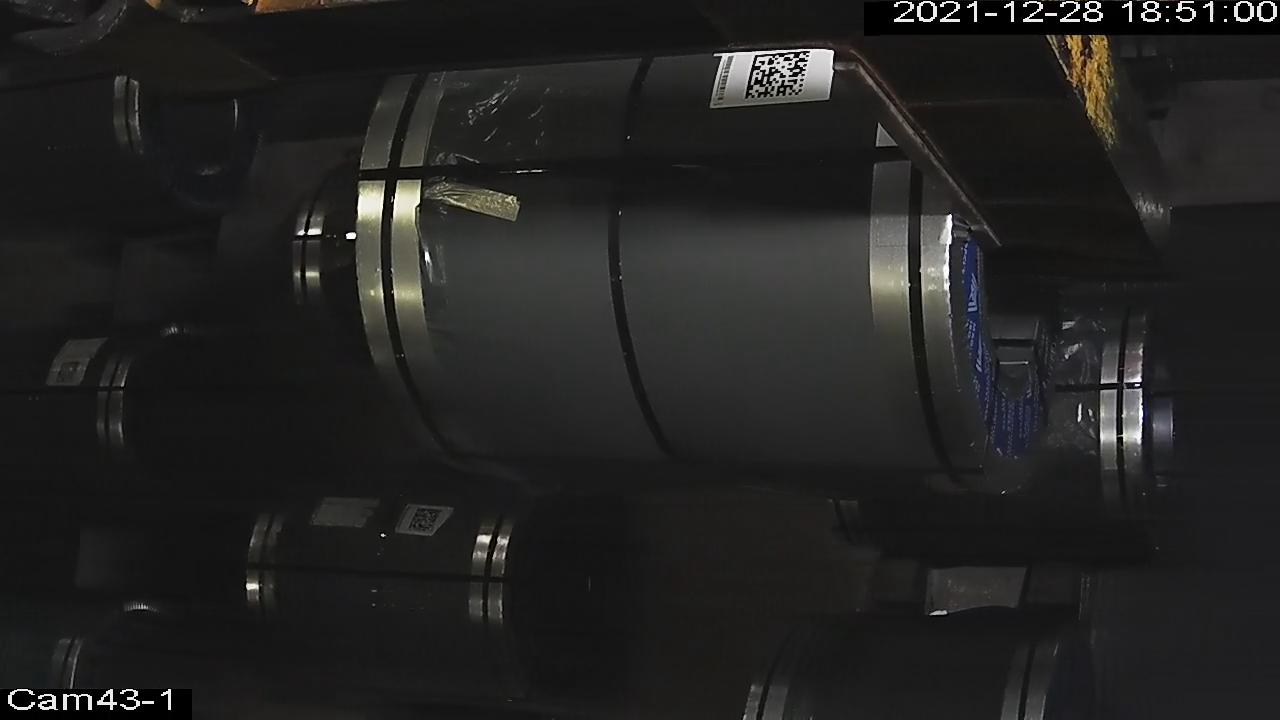data matrix: (744, 49, 813, 103), (407, 505, 446, 537)
